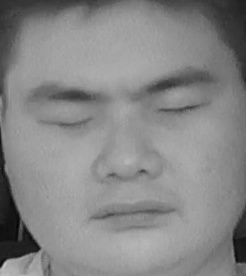blink: (40, 106, 96, 139), (159, 93, 210, 122)
mouth: (91, 190, 176, 234)
